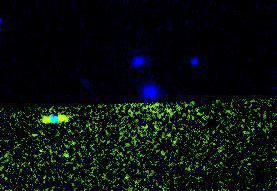star: (51, 140, 81, 170)
